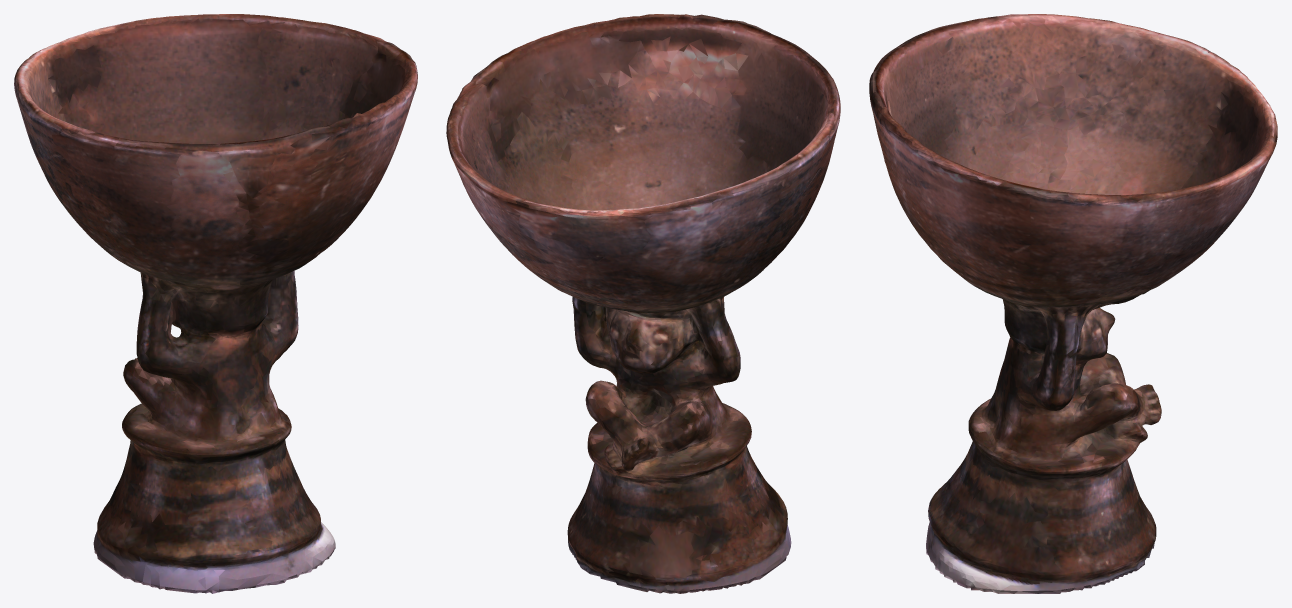
File: copa.fbx
The picture shows the model from 3 angles, left to right: view 1: azimuth 30°, elevation 25°; view 2: azimuth 150°, elevation 25°; view 3: azimuth 270°, elevation 25°; orthographic projection. The views are drawn at different scales.
Parts seen in each view (by area): view 1: copa; view 2: copa; view 3: copa.
Part boxes in pixels (box(x1,y1,x2,y2)): copa: box(14, 14, 417, 593); copa: box(446, 14, 840, 593); copa: box(869, 14, 1277, 593).
Size of the model in its own units: 1.72 by 1.73 by 2.21.
1 material, 1 textured.
